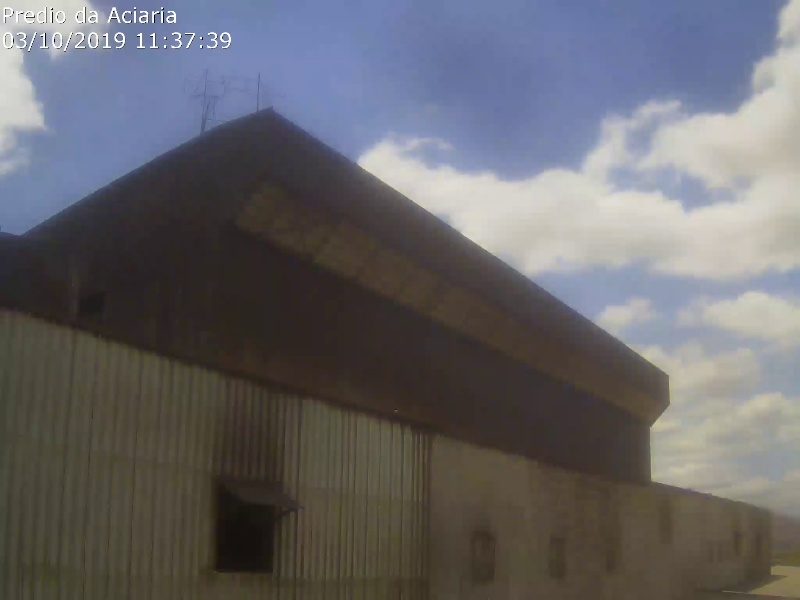bom: (229, 8, 696, 444), (85, 7, 226, 143)
